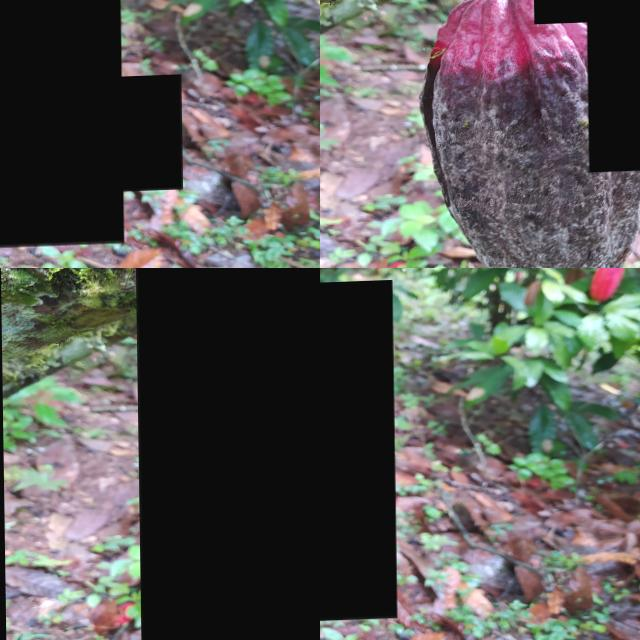Fitoftora: (320, 282, 395, 627)
Monilia: (116, 78, 181, 195)
Sana: (134, 268, 320, 640), (0, 0, 122, 252), (586, 14, 640, 174)
